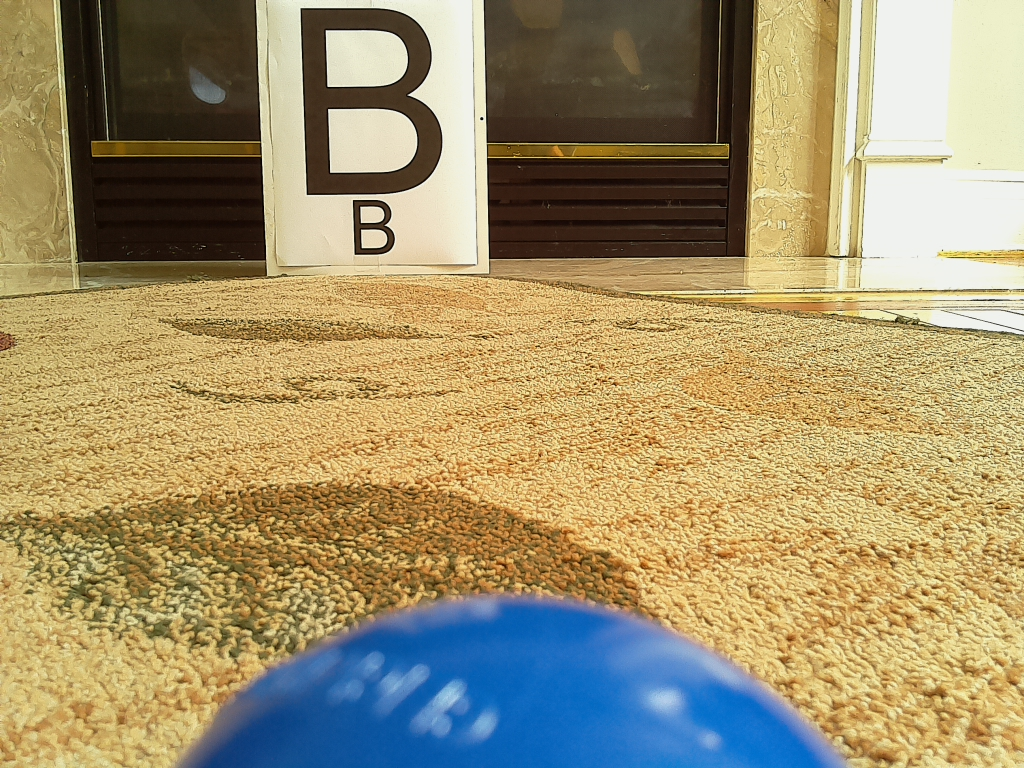letter: (300, 7, 443, 194)
